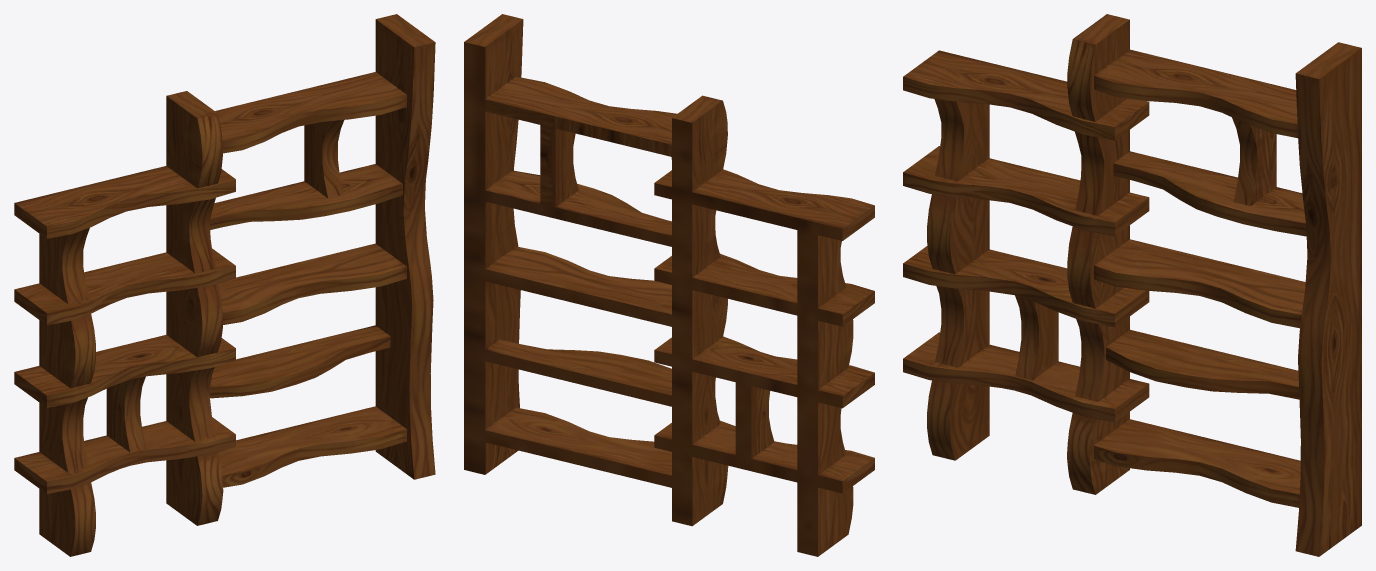
File: Stellazh.fbx
3 renders of one model, left to right at view 1: azimuth 30°, elevation 25°; view 2: azimuth 150°, elevation 25°; view 3: azimuth 330°, elevation 25°, orthographic. The views are drawn at different scales.
Visible parts, largest first — view 1: STELLAZH; view 2: STELLAZH; view 3: STELLAZH.
Part boxes in pixels (left/top/right/bottom): STELLAZH: left=14, top=14, right=435, bottom=556; STELLAZH: left=464, top=14, right=874, bottom=556; STELLAZH: left=903, top=14, right=1361, bottom=556.
Size of the model in its own units: 190 by 205 by 33.3.
